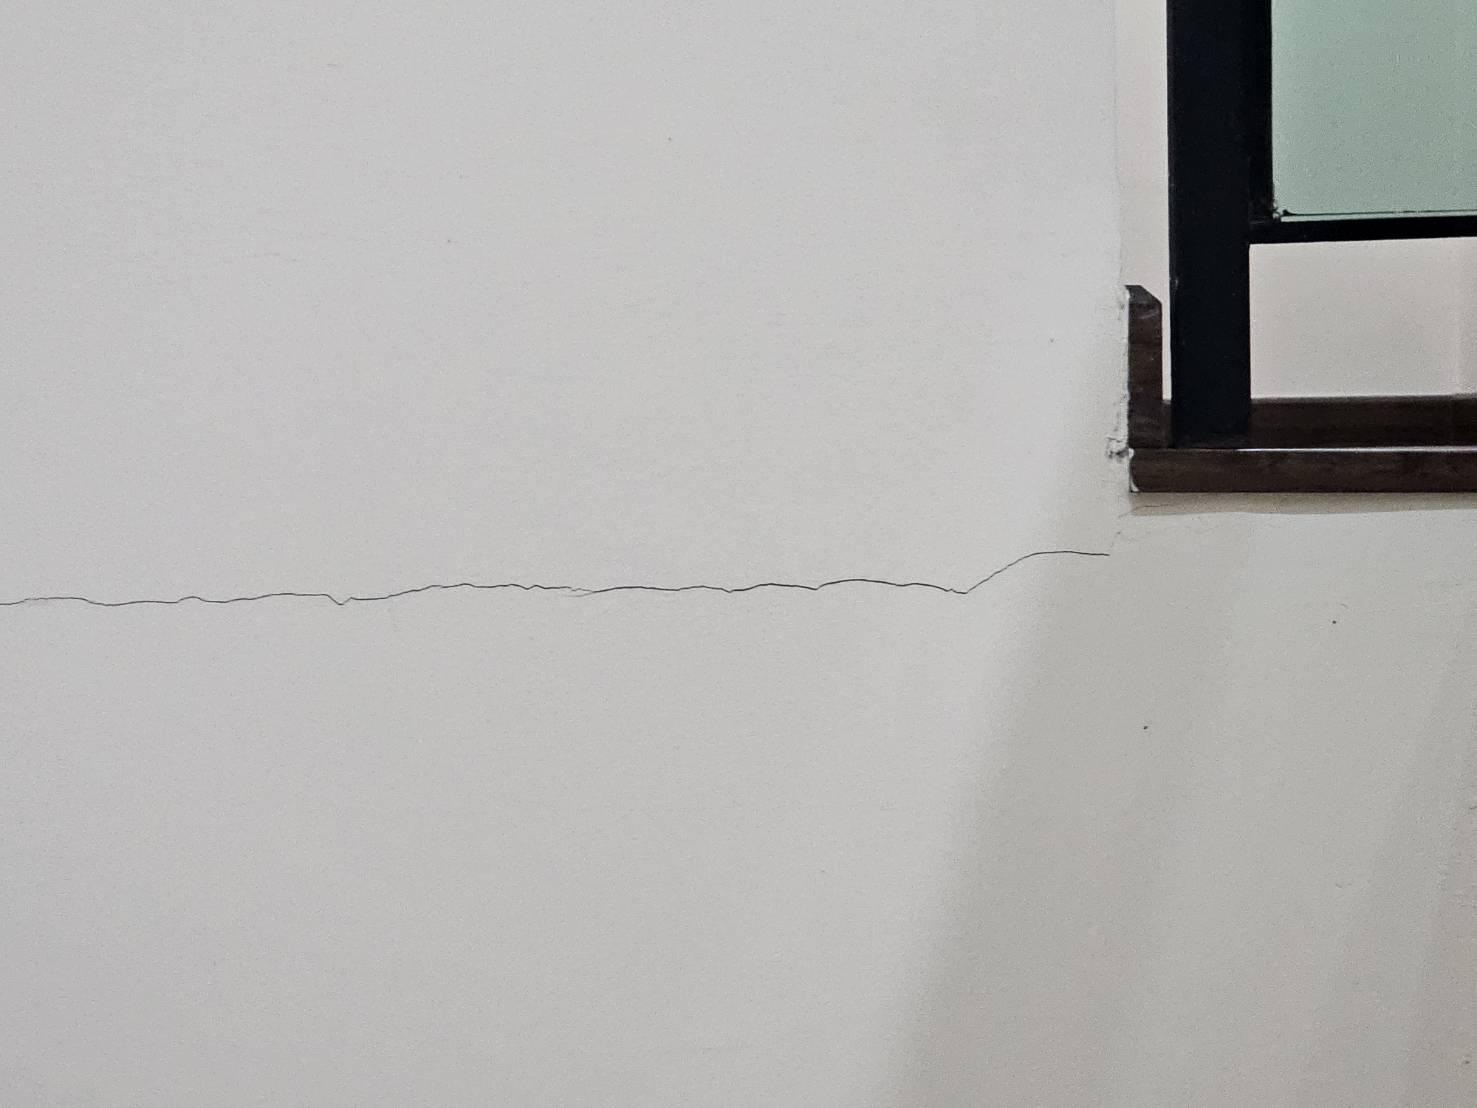Low: (1, 526, 1139, 692)
